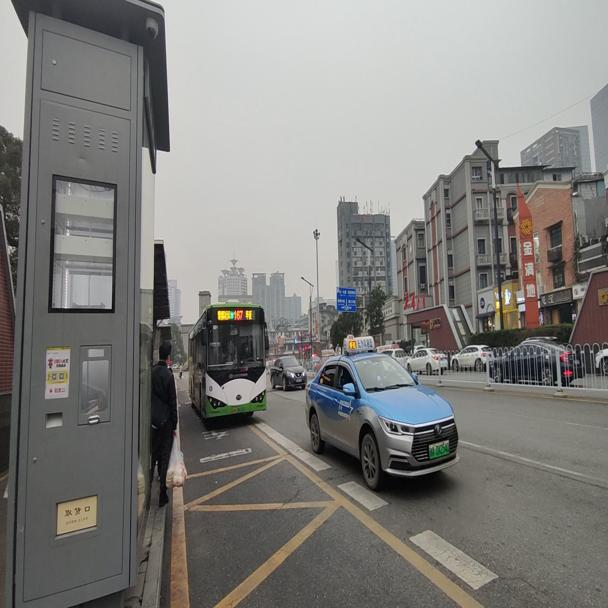bus: (187, 302, 269, 422)
screen: (233, 310, 243, 319)
